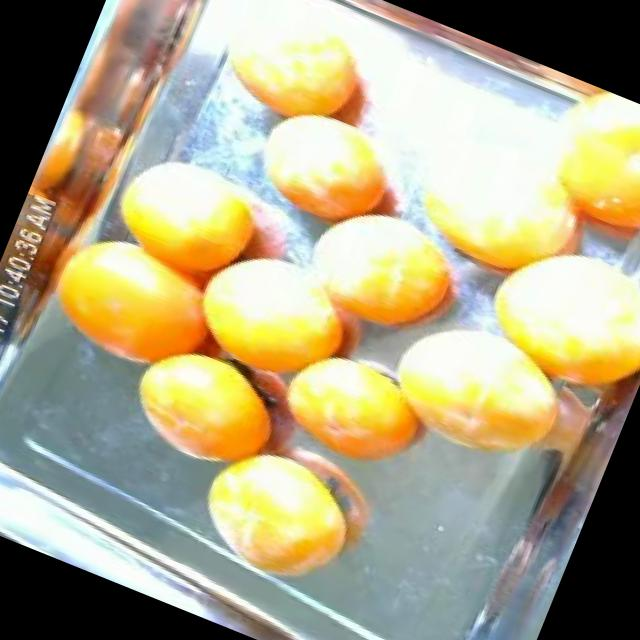Fruit: (168, 410, 392, 612), (22, 210, 244, 402), (156, 0, 415, 159), (228, 81, 436, 262), (106, 322, 300, 494)
